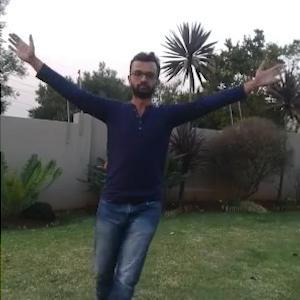takeoff: (19, 46, 282, 287)
